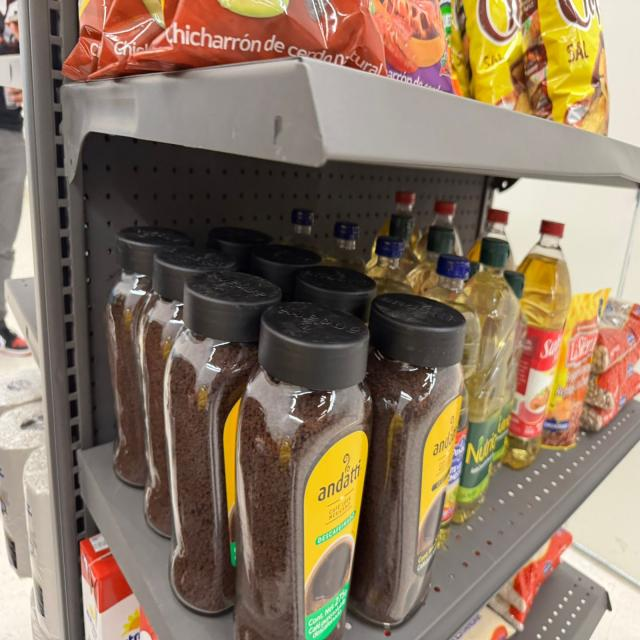ACEITE NUTRIOLI 400 ML: (493, 270, 526, 469)
ACEITE VEGETAL LA POSADA 800 ML: (422, 254, 479, 382), (437, 382, 468, 549), (366, 236, 411, 296), (323, 221, 367, 273), (288, 209, 315, 251)
Aceite Comestible Nutrioli 850ml: (407, 225, 456, 294), (389, 215, 418, 275)
Aceite Sabrosano 850ml: (502, 221, 571, 469), (468, 207, 516, 274)
Arroz La Posada 900 gr: (497, 527, 573, 613), (487, 557, 564, 631)
Azucar Estandar La Posada 1 kg: (452, 605, 515, 639)
CAFE SOLUBLE ANDATTI DESCAFEINADO 275G: (235, 302, 372, 639), (164, 274, 280, 615), (137, 247, 236, 537), (106, 227, 195, 488)
Cafe Soluble Andatti 275g: (350, 294, 464, 627), (291, 266, 376, 322), (250, 243, 321, 300), (208, 227, 272, 271)
Chicharron de Cerdo Natural Bitz 120 gr: (119, 0, 384, 74), (87, 0, 166, 83), (60, 0, 107, 81)
Frijol La Sierra Chorizo 430 bolsa: (542, 289, 609, 449)
Frijol Pinto La Posada 900gr: (579, 370, 640, 433), (590, 298, 640, 374), (584, 343, 640, 409)
Papas Chips Barcel 170 gr bolsa con sal: (515, 0, 608, 135), (461, 0, 535, 114), (442, 0, 473, 97)
chicharrones de cerdo intenso: (368, 0, 459, 93)
